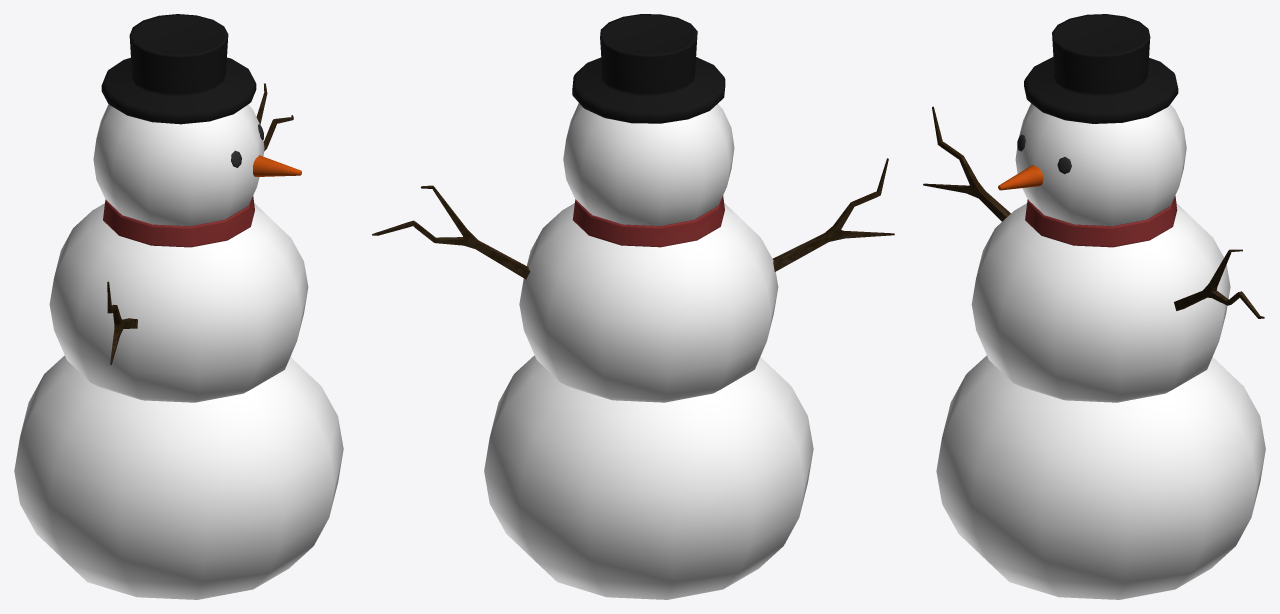
The model's file is shifter-snow-19.glb.
The picture shows the model from 3 angles, left to right: view 1: azimuth 30°, elevation 25°; view 2: azimuth 150°, elevation 25°; view 3: azimuth 270°, elevation 25°; orthographic projection.
Visible parts, largest first — view 1: piece; view 2: piece; view 3: piece.
Boxes of the visible parts, x1,y1,x2,y2 form: piece: (14,14,343,599); piece: (372,14,894,599); piece: (923,14,1265,599).
Bounding box in the file's own units: 1.02 × 1.48 × 0.8587.
1 material, 1 textured.
